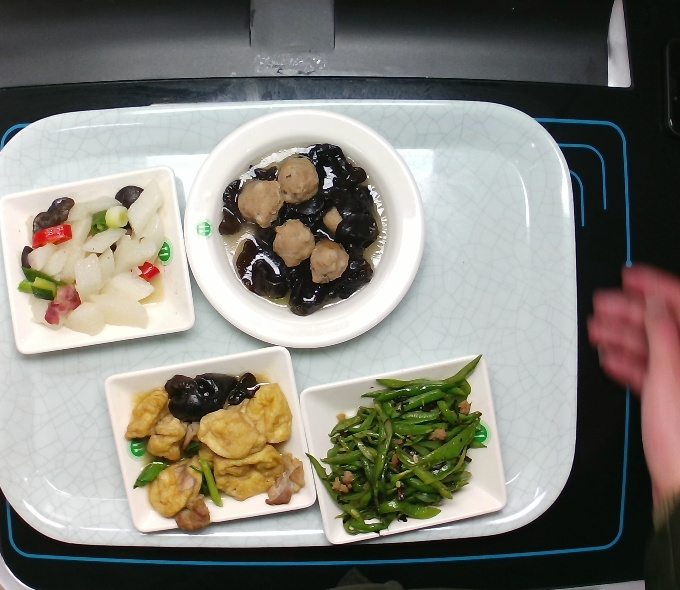wcq-MuErWanZi: (211, 130, 404, 328)
wcq-ShanYao: (13, 174, 173, 344)
wcq-SiJiDouChaoRou: (294, 340, 502, 542)
wcq-YouPaoRouPian: (124, 363, 307, 528)
